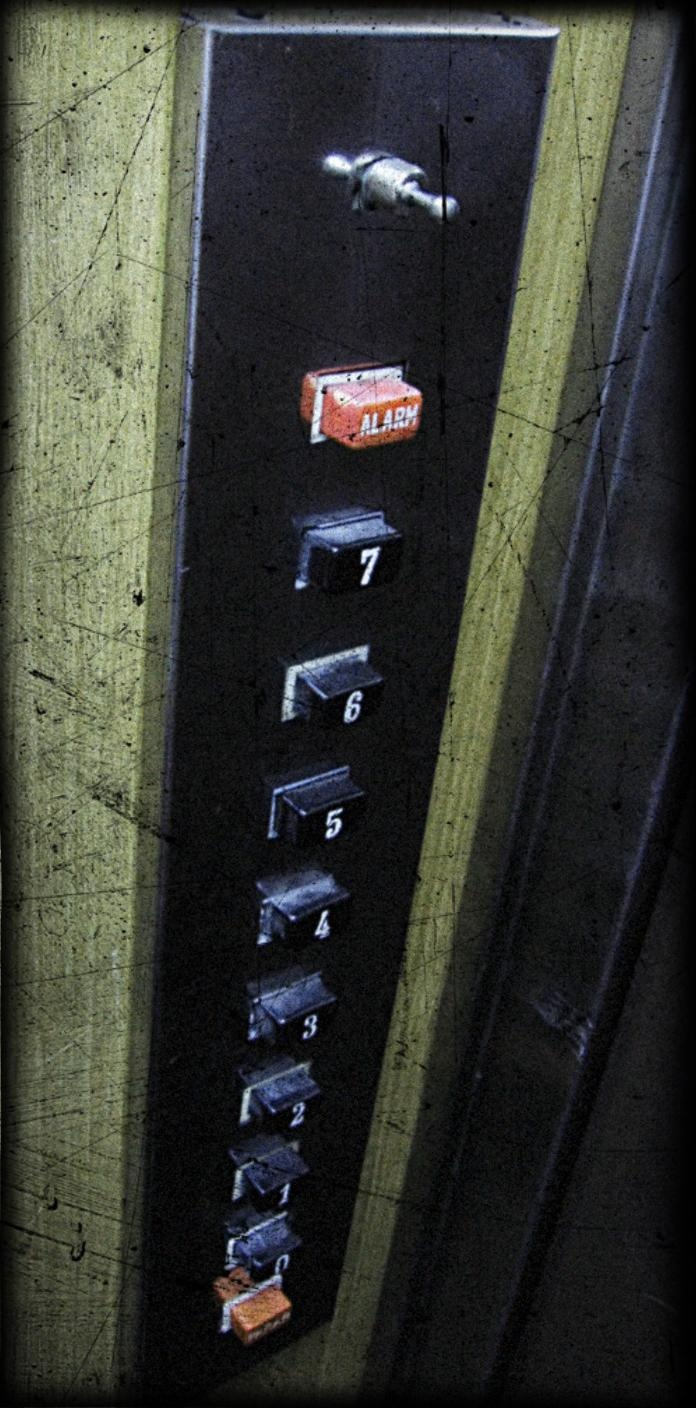0: (226, 1218, 300, 1279)
1: (230, 1144, 308, 1214)
2: (235, 1062, 322, 1137)
3: (246, 975, 340, 1054)
4: (256, 878, 347, 953)
5: (268, 762, 374, 853)
6: (285, 647, 389, 739)
7: (294, 510, 401, 602)
switch: (336, 136, 463, 237)
text_ALARM: (302, 359, 429, 457)
text_blur: (222, 1279, 291, 1345)
